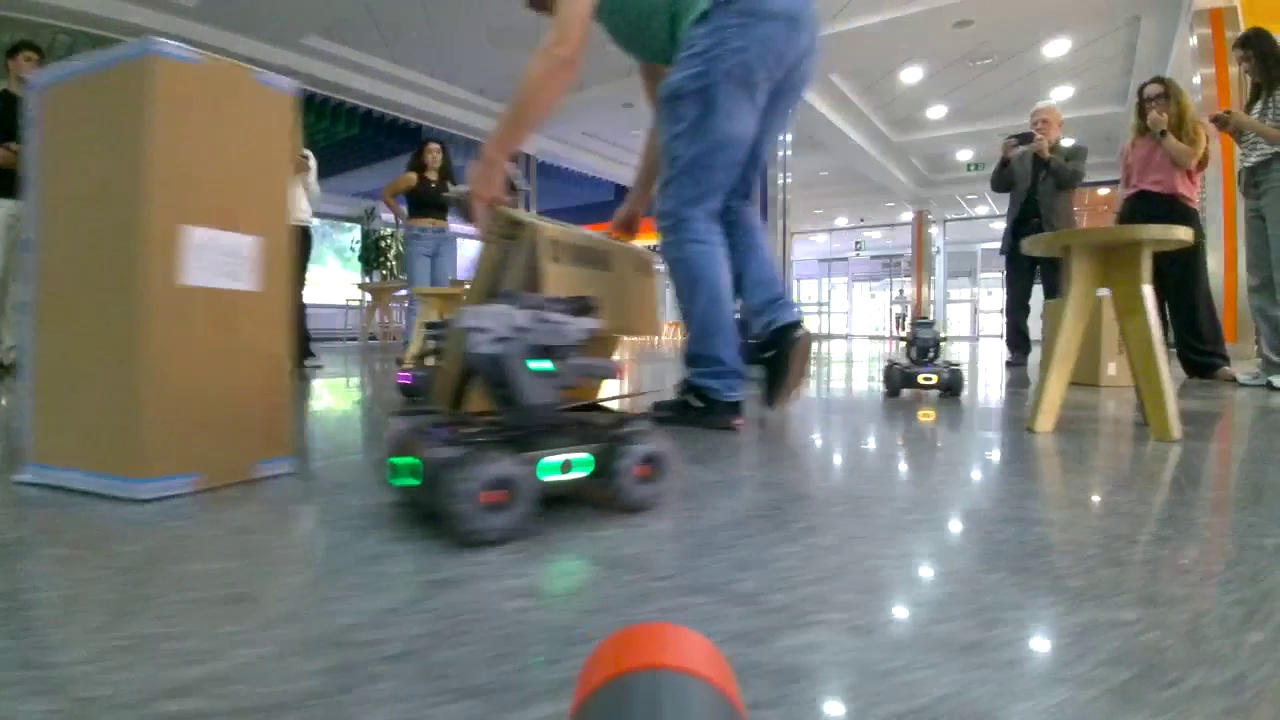robot: (382, 282, 672, 553), (878, 312, 966, 406)
